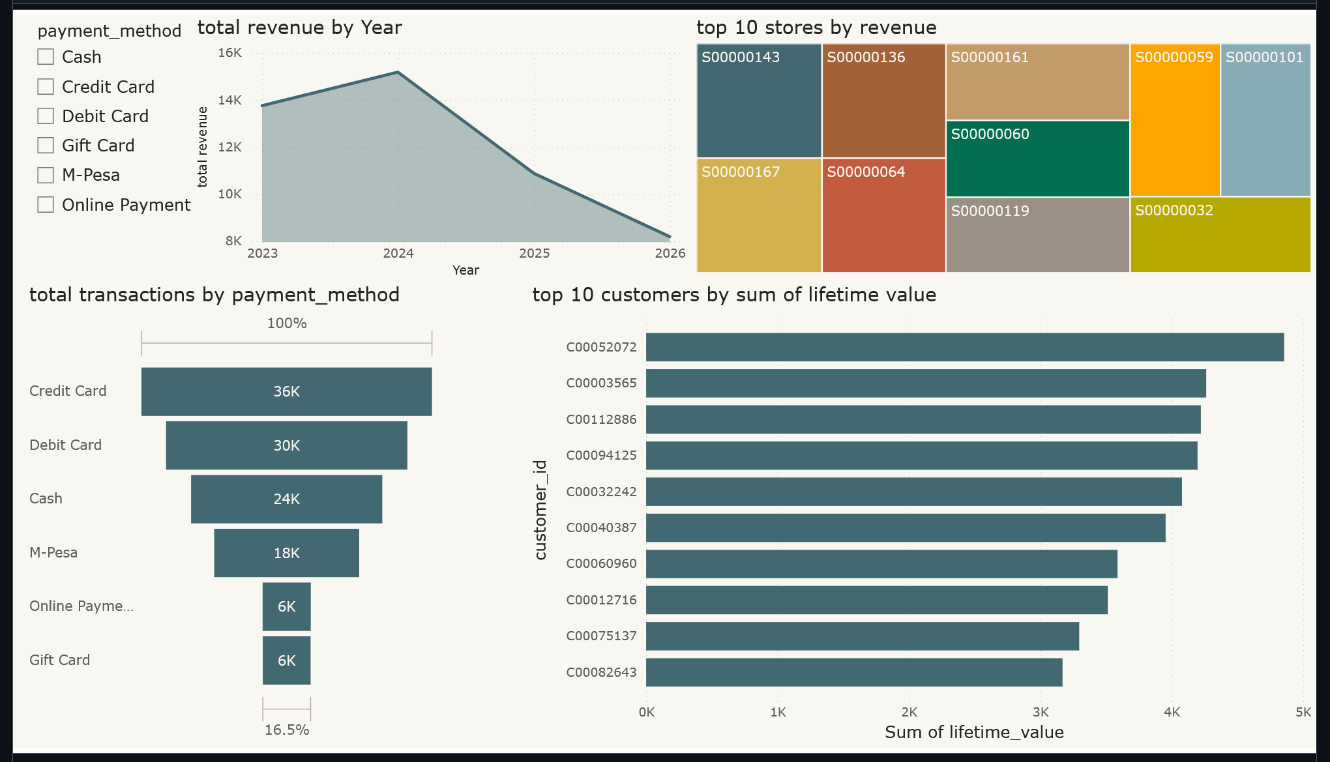

What the dashboard file says about the page in this screenshot:
{"tool":"powerbi","page":{"name":"customer analysis","canvas":[1280,720],"ordinal":1},"visuals":[{"type":"slicer","fields":{"Values":["fact_table_sales.payment_method"]},"box":[11,0,277.9,209.5],"z":0},{"type":"clusteredBarChart","title":"top 10 customers by sum of lifetime value","fields":{"Category":["customers_table.customer_id"],"Y":["Sum(customers_table.lifetime_value)"]},"box":[505.1,262.5,774.2,456.6],"z":2},{"type":"treemap","title":"top 10 stores by revenue","fields":{"Group":["fact_table_sales.store_id"],"Values":["customers_table.total revenue"]},"box":[666.1,0,613.2,258.1],"z":3},{"type":"areaChart","fields":{"Category":["date_table.date_key.Variation.Date Hierarchy.Year"],"Y":["customers_table.total revenue"]},"box":[176.5,0,489.7,262.5],"z":4},{"type":"funnel","fields":{"Category":["fact_table_sales.payment_method"],"Y":["customers_table.total transactions"]},"box":[11,262.5,410.3,456.6],"z":5}]}

Visuals, with their boxes in screenshot pixels (x1, y1, x2, y2), scaled from the page's 1280x720 canvas onto the 1330x762 screenshot:
slicer - fact_table_sales.payment_method: (x1=11, y1=0, x2=300, y2=222)
"top 10 customers by sum of lifetime value" clusteredBarChart: (x1=525, y1=278, x2=1329, y2=761)
"top 10 stores by revenue" treemap: (x1=692, y1=0, x2=1329, y2=273)
areaChart - date_table.date_key.Variation.Date Hierarchy.Year x customers_table.total revenue: (x1=183, y1=0, x2=692, y2=278)
funnel - fact_table_sales.payment_method x customers_table.total transactions: (x1=11, y1=278, x2=438, y2=761)
